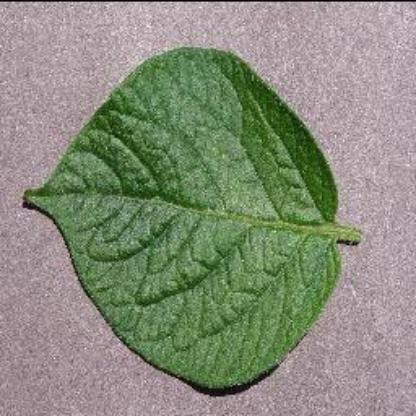Healthy-plant: (22, 37, 362, 404)
